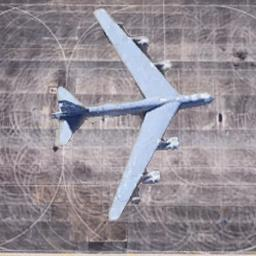Airplane: (49, 7, 214, 222)
